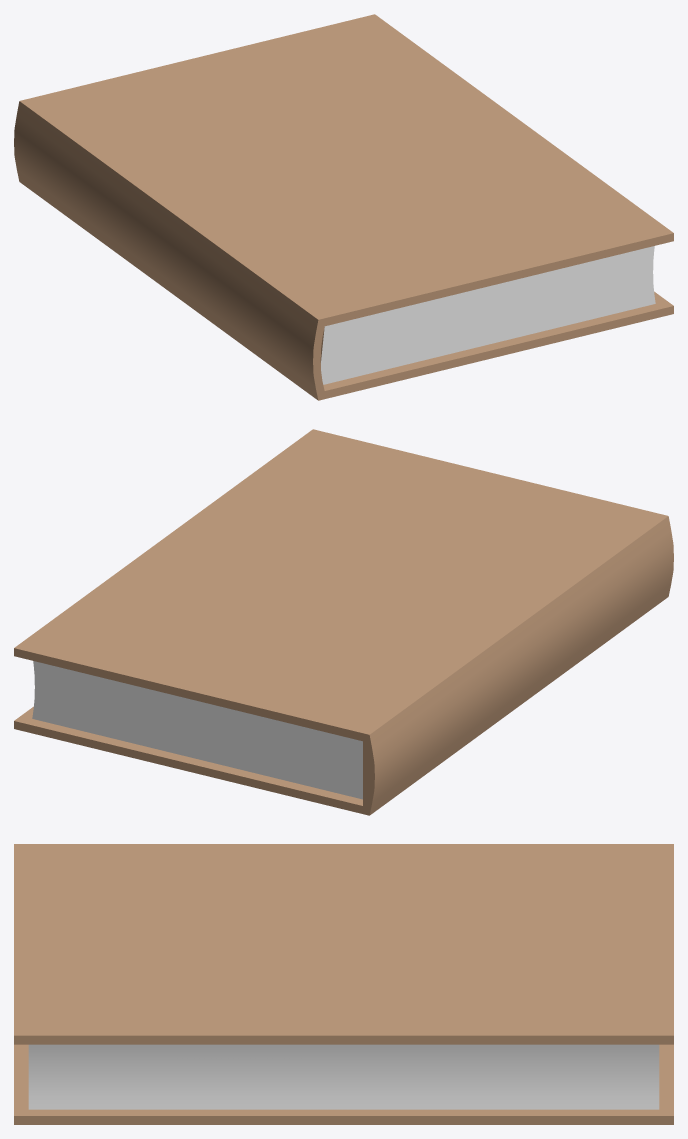
File: diary_close.fbx
3 renders of one model, top to bottom at view 1: azimuth 30°, elevation 25°; view 2: azimuth 150°, elevation 25°; view 3: azimuth 270°, elevation 25°, orthographic. The views are drawn at different scales.
Parts seen in each view (by area): view 1: Box001; view 2: Box001; view 3: Box001.
Part boxes in pixels (left/top/right/bottom): Box001: left=14, top=14, right=673, bottom=400; Box001: left=14, top=429, right=673, bottom=815; Box001: left=14, top=844, right=673, bottom=1124.
Size of the model in its own units: 46.69 by 10 by 67.
